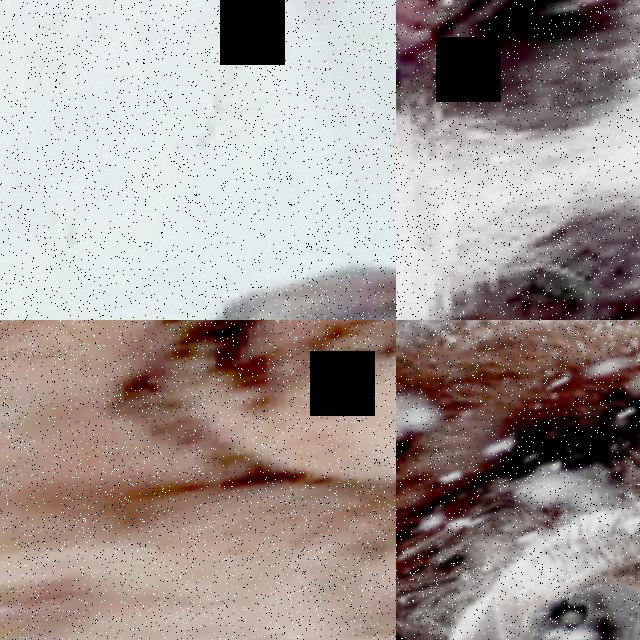dog: (396, 0, 640, 320)
wolf: (0, 320, 396, 640), (0, 386, 396, 640), (396, 320, 640, 640), (0, 217, 396, 320)
